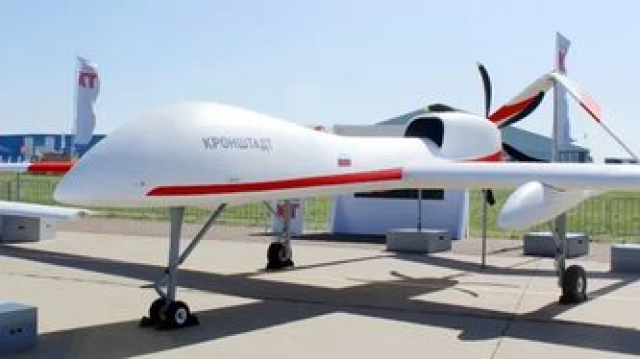military drone: (0, 61, 640, 326)
